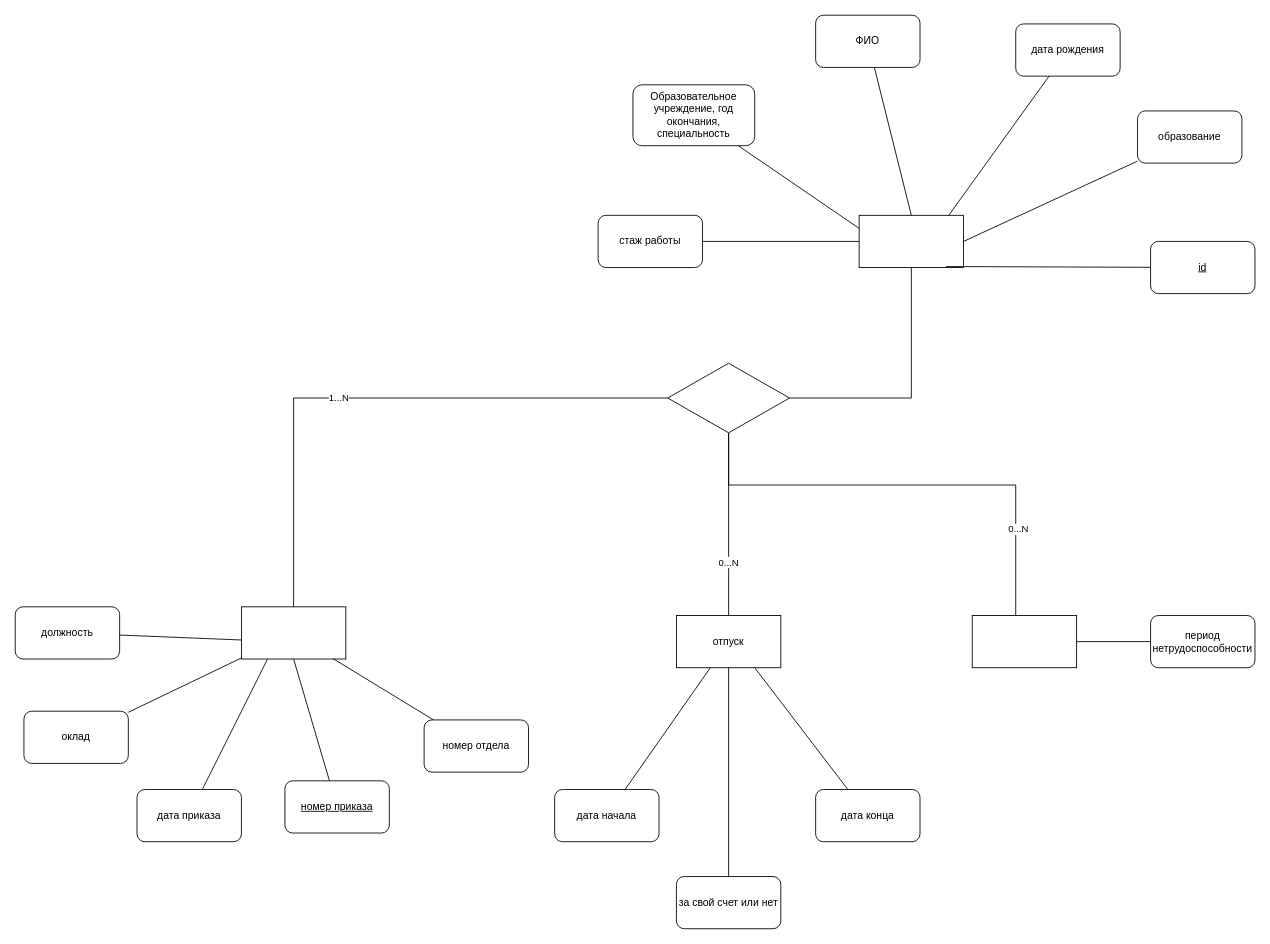
The diagram is 1270 pixels wide and 944 high, and some of its shapes have lost their labels. Here are the shapes that lost their labels. From the top down, the box of each, then its label:
(858, 214, 964, 268): сотрудник
(667, 362, 790, 433): имеет
(241, 606, 346, 659): назначение
(971, 615, 1077, 668): больничный лист
